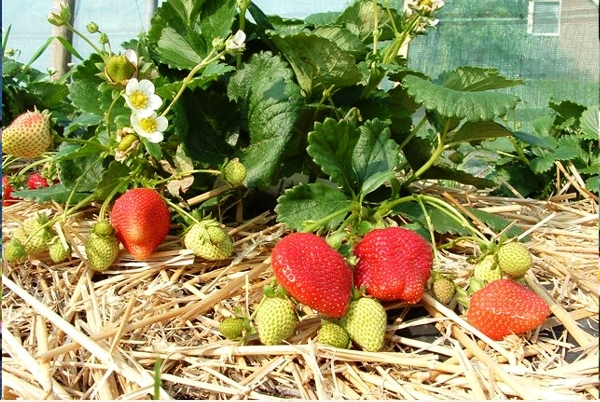ripe_strawberry: (270, 232, 354, 318), (352, 227, 435, 307), (465, 277, 551, 341), (111, 187, 173, 263), (1, 175, 21, 206), (28, 173, 62, 190)
unripe_strawberry: (338, 296, 389, 353), (1, 112, 53, 160), (183, 218, 236, 263), (256, 295, 300, 346), (11, 216, 55, 255), (85, 231, 121, 272), (473, 252, 513, 287), (496, 240, 532, 276), (317, 319, 350, 349), (104, 56, 137, 85), (217, 316, 251, 341), (222, 159, 249, 187), (48, 238, 73, 265), (433, 277, 456, 305), (204, 223, 229, 246), (118, 132, 141, 153), (6, 242, 25, 263), (95, 220, 113, 238)
